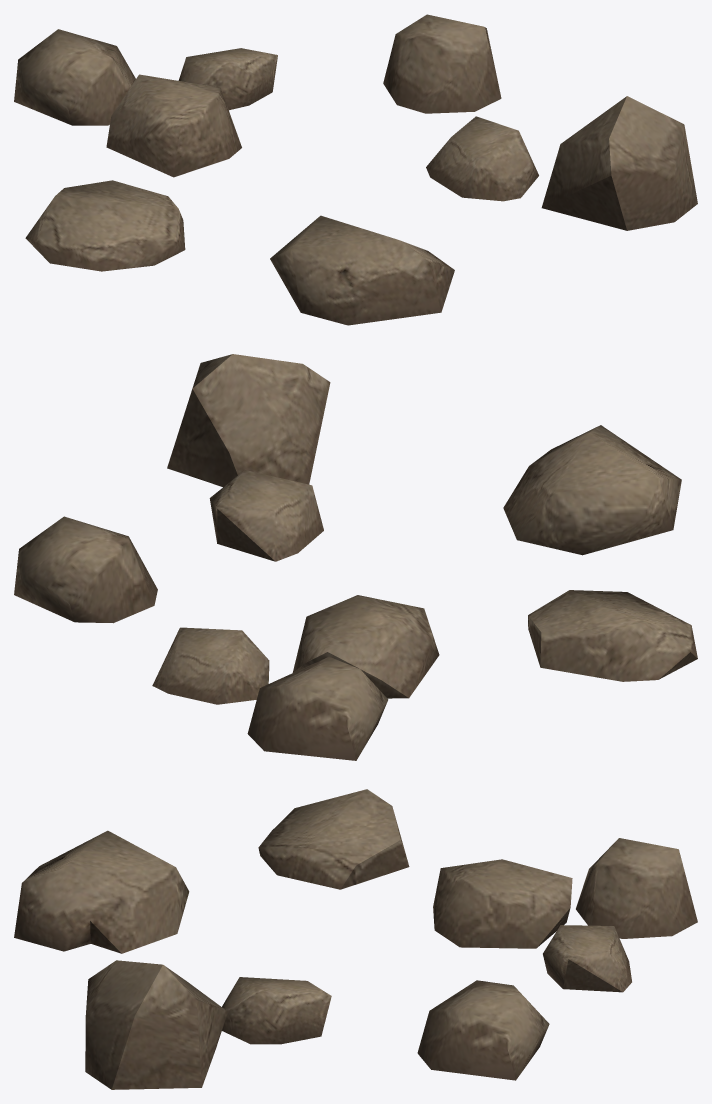
The model's file is environment_stone_shanti_004_b.FBX.
3 views of the same model, one above another, from view 1: azimuth 30°, elevation 25°; view 2: azimuth 150°, elevation 25°; view 3: azimuth 270°, elevation 25° (orthographic). The views are drawn at different scales.
Visible parts, largest first — view 1: environment_stone_shanti_004_b; view 2: environment_stone_shanti_004_b; view 3: environment_stone_shanti_004_b.
Boxes of the visible parts, x1=… form: environment_stone_shanti_004_b: x1=14, y1=14, x2=697, y2=325; environment_stone_shanti_004_b: x1=14, y1=354, x2=697, y2=760; environment_stone_shanti_004_b: x1=14, y1=789, x2=697, y2=1089.
Size of the model in its own units: 313 by 55.17 by 331.
Materials: 1 (1 with a texture image).
